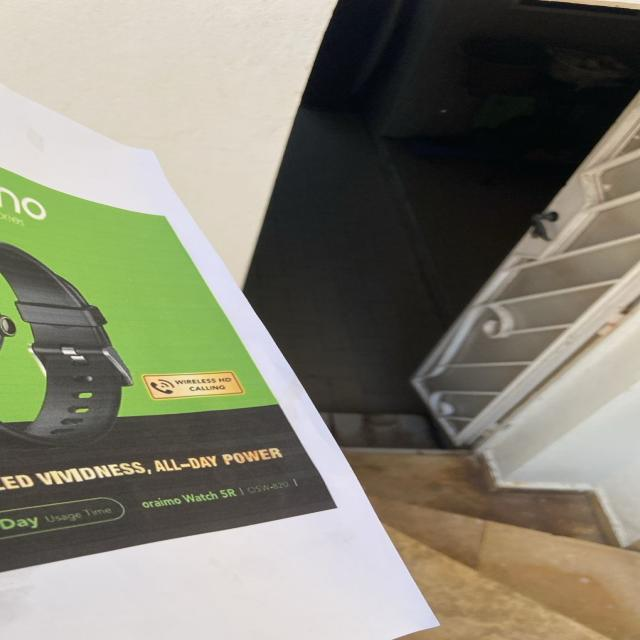Oraimo Watch 5R OSW-820: (131, 476, 306, 514)
